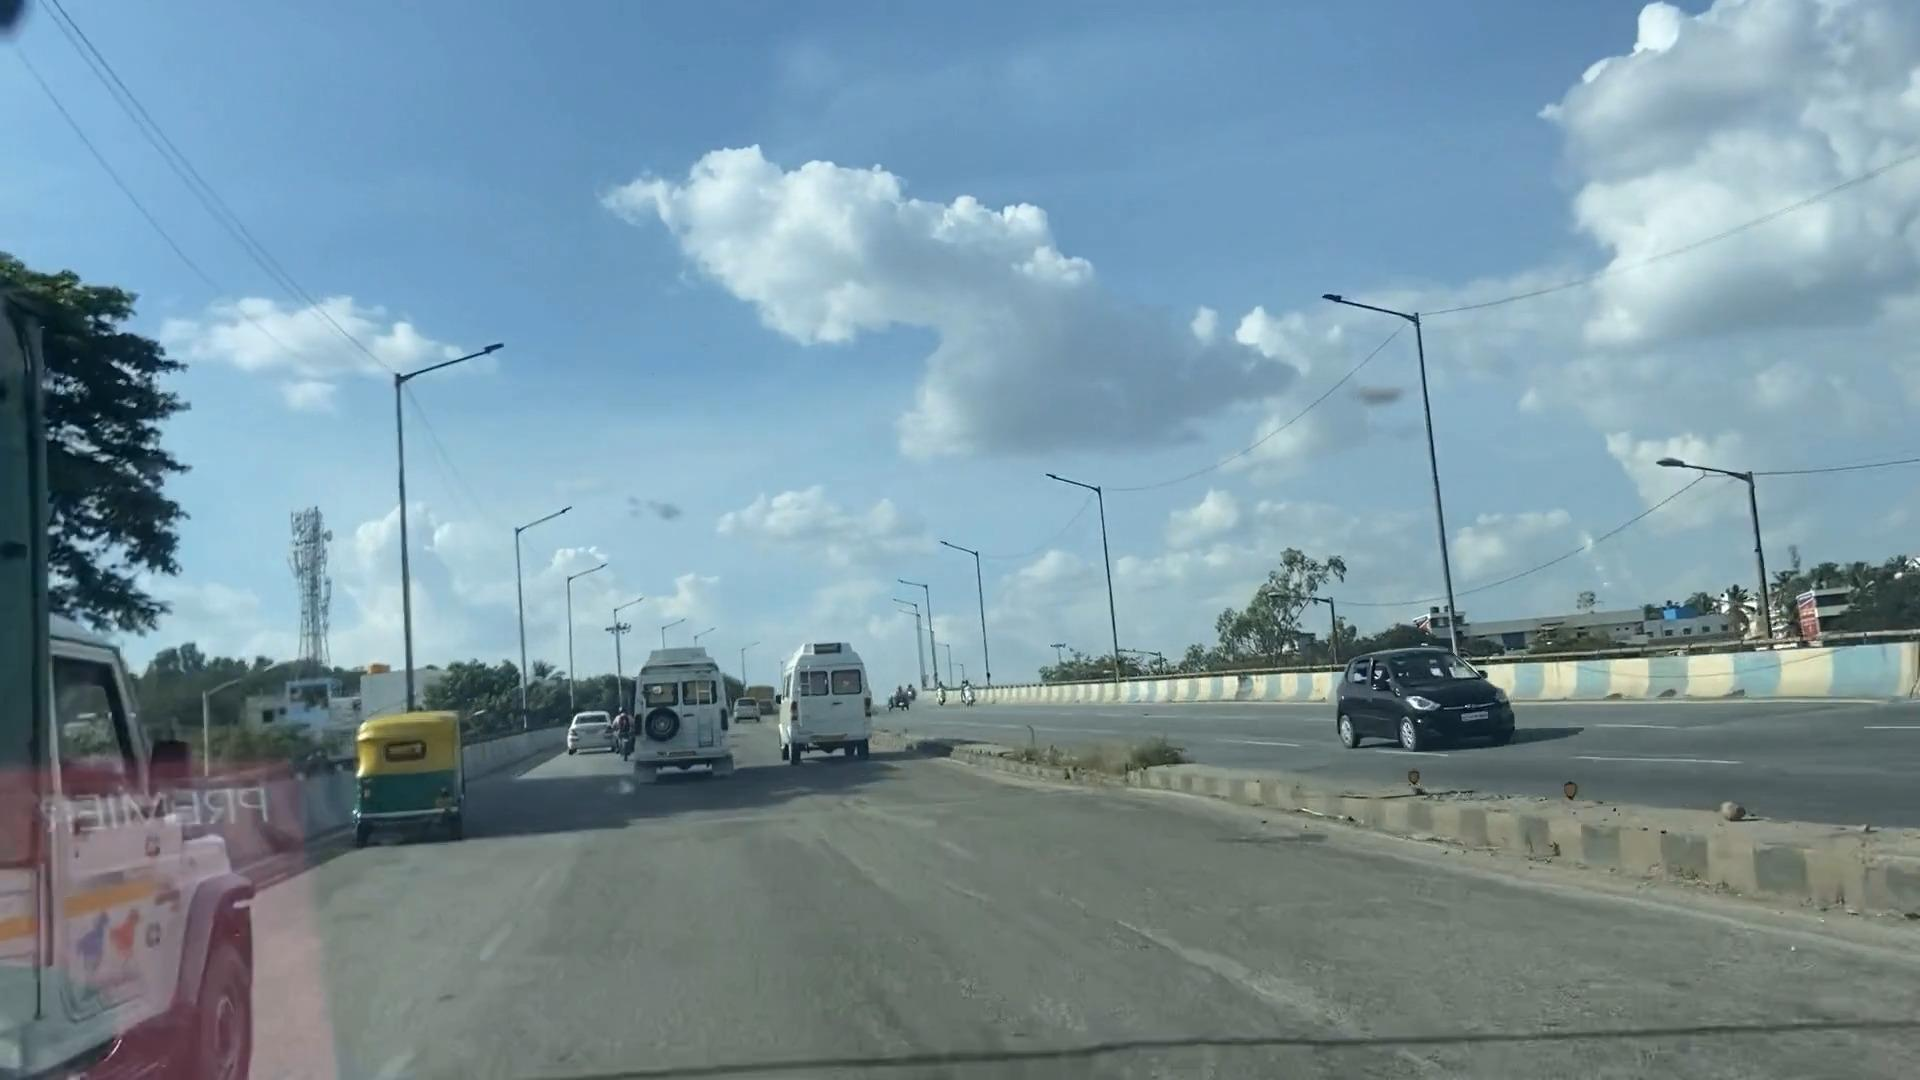HMV: (0, 328, 252, 1049), (622, 628, 747, 783), (786, 628, 891, 752)
LMV: (332, 710, 479, 850)
RoadDamages: (874, 830, 1682, 1080)
